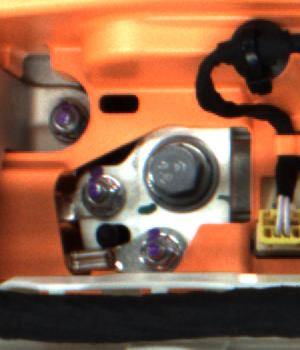nut_b: (139, 126, 229, 220)
screw_s: (76, 173, 123, 217), (138, 226, 176, 275), (46, 99, 87, 139)
